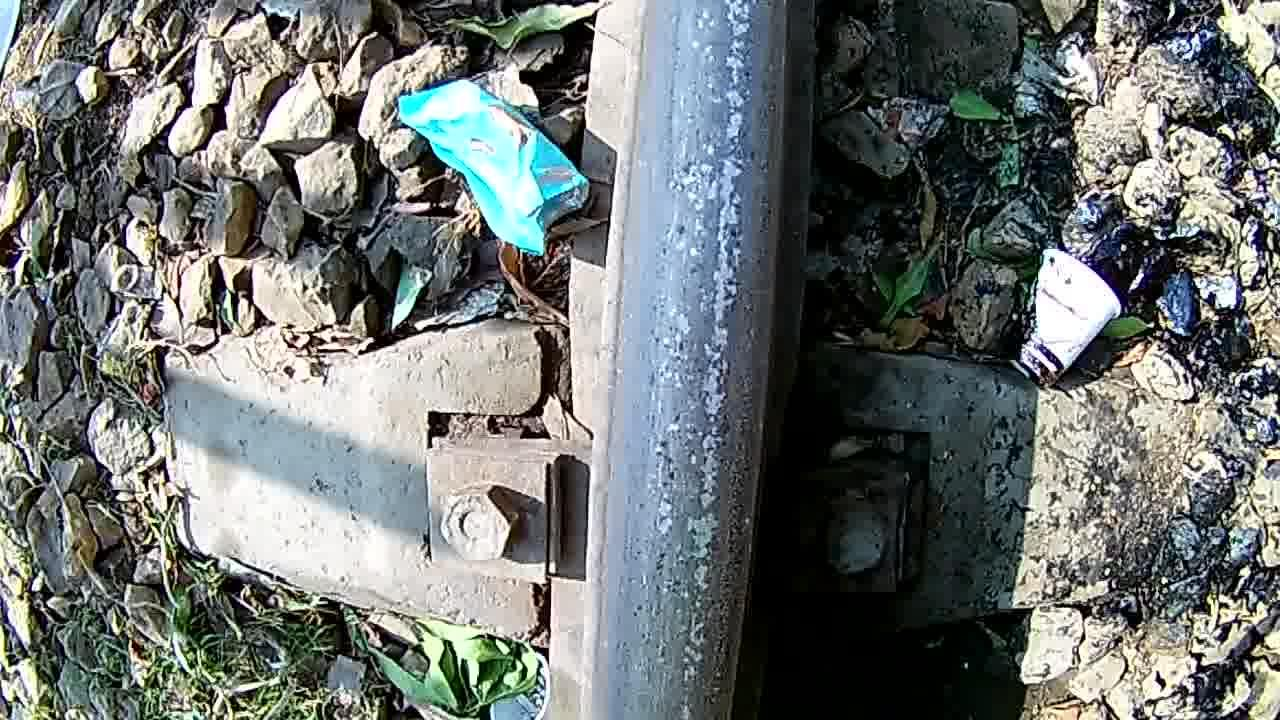clip_missing: (596, 0, 803, 720)
